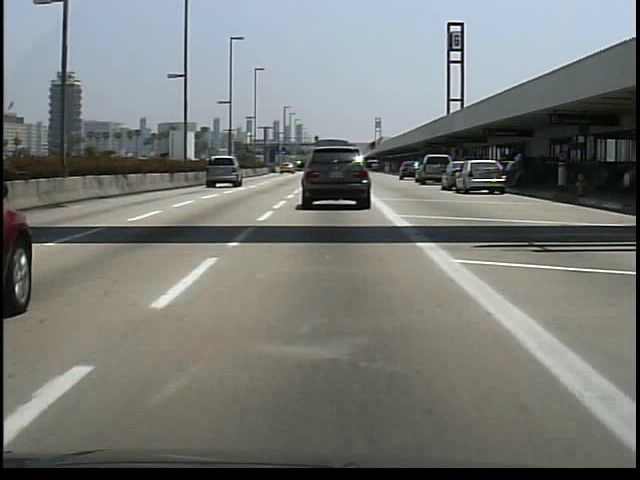person: (509, 149, 533, 191)
